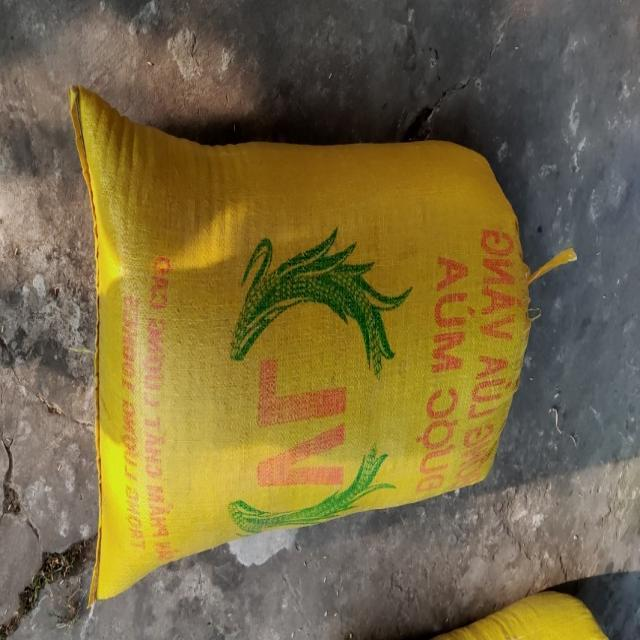gunny_bag: (69, 86, 574, 600)
